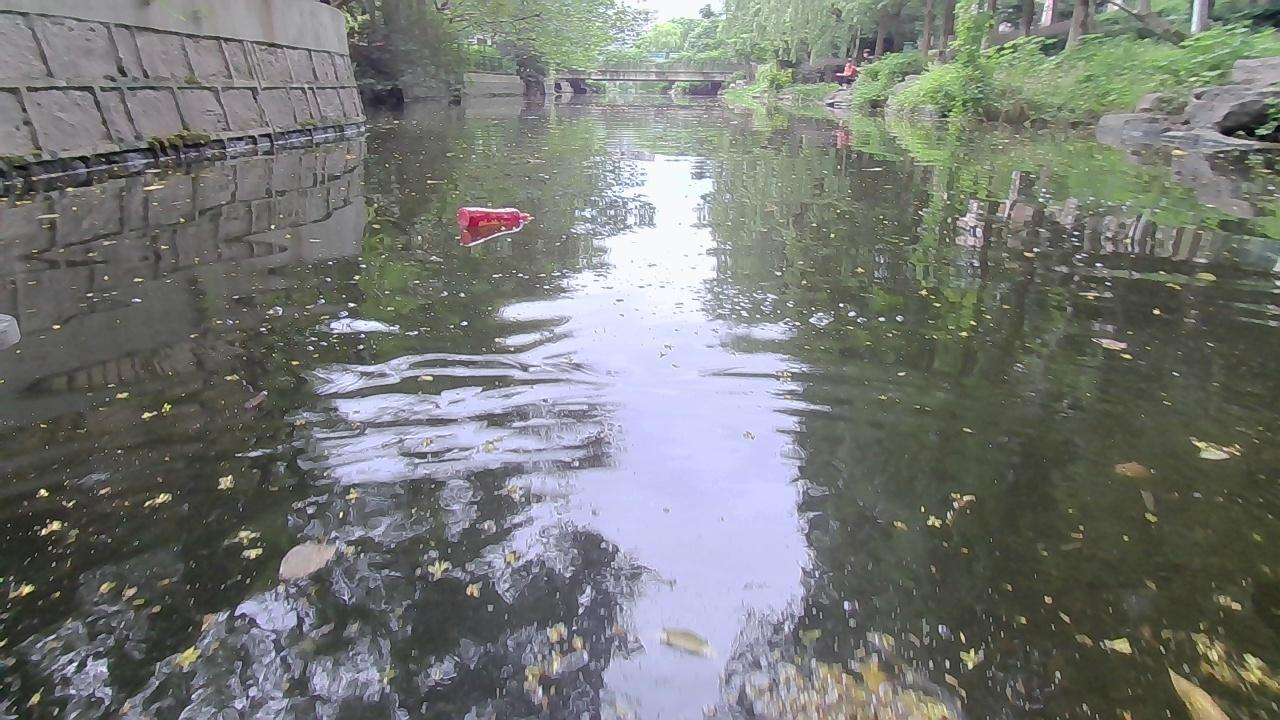bottle: (459, 204, 537, 234), (1166, 146, 1185, 156)
